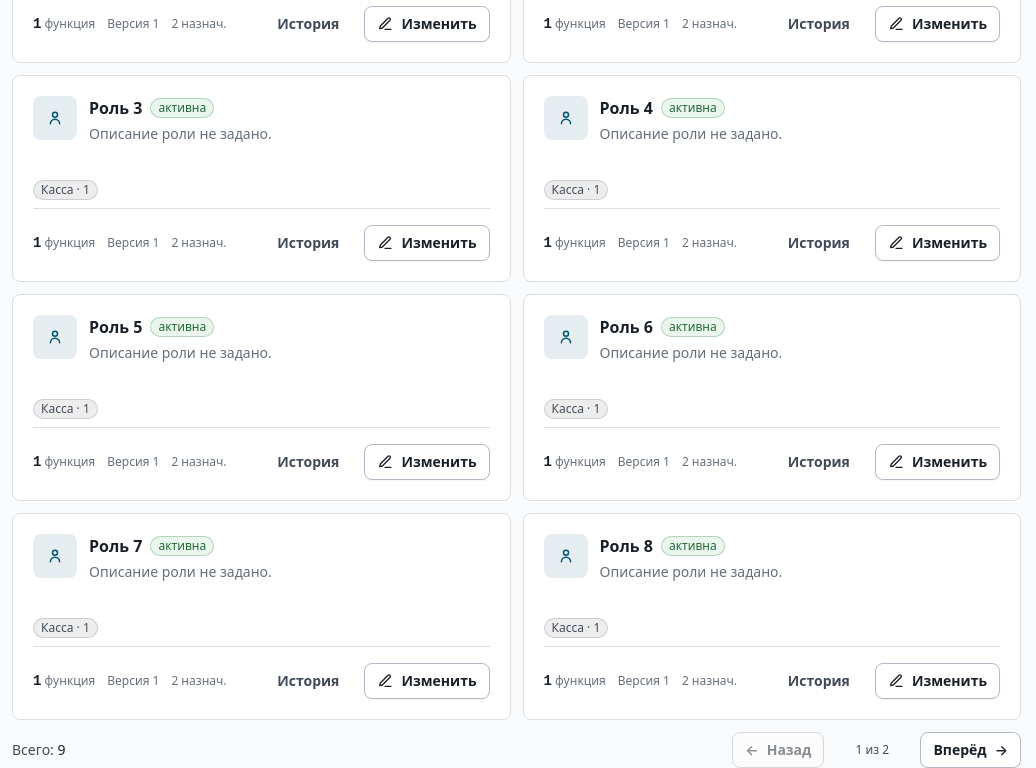
RolesPage › paginates long role lists without rendering every card
(page scrolled)
Expected: the text "Роль 9" is not shown
Click the button "Вперёд →" at (971, 750), box [920,732,1021,767]
(page scrolled)
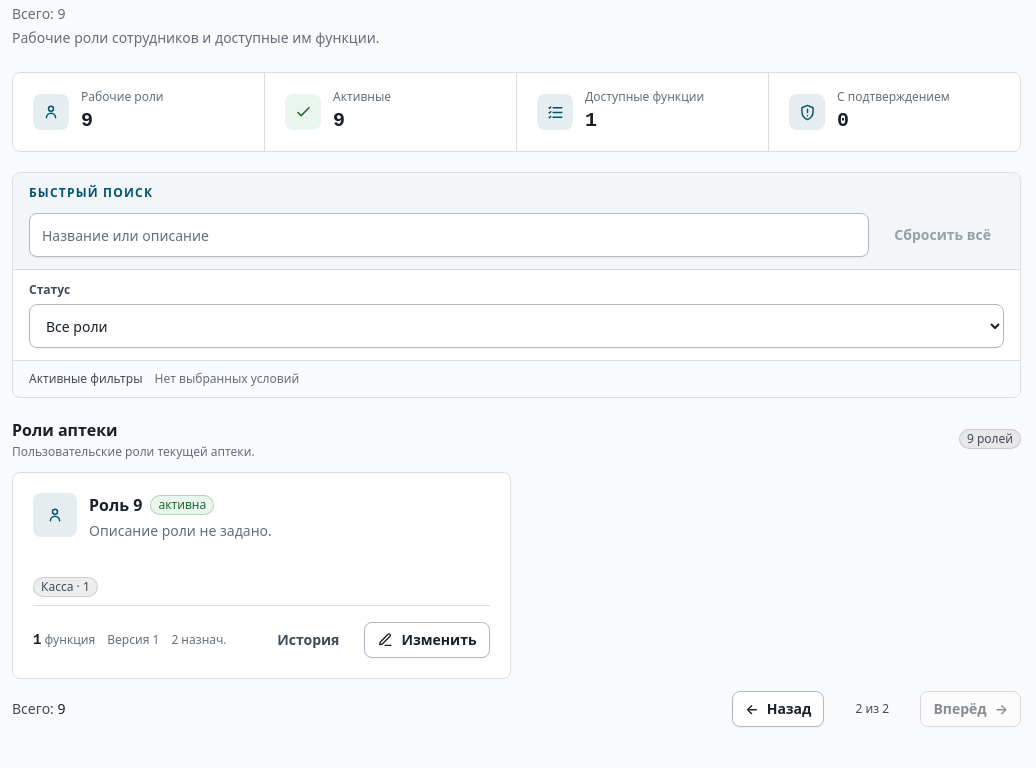
Expected: the heading "Роль 9" is shown, [89,493,142,517]
